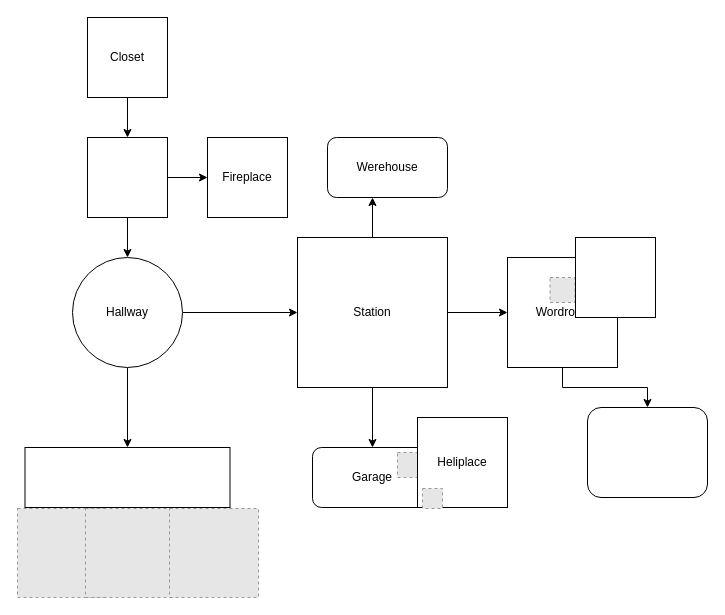
The diagram is 725 pixels wide and 615 high, and some of its shapes have lost their labels. Grey dashed boxes stand in for pictures. The shapes that lost their labels are listed below. From the top down, each one's centre as x and y in pixels, then its label:
At pixel 127 177: "Start".
At pixel 615 277: "Roof".
At pixel 647 452: "Armoryplace".
At pixel 127 477: "Prominate".
